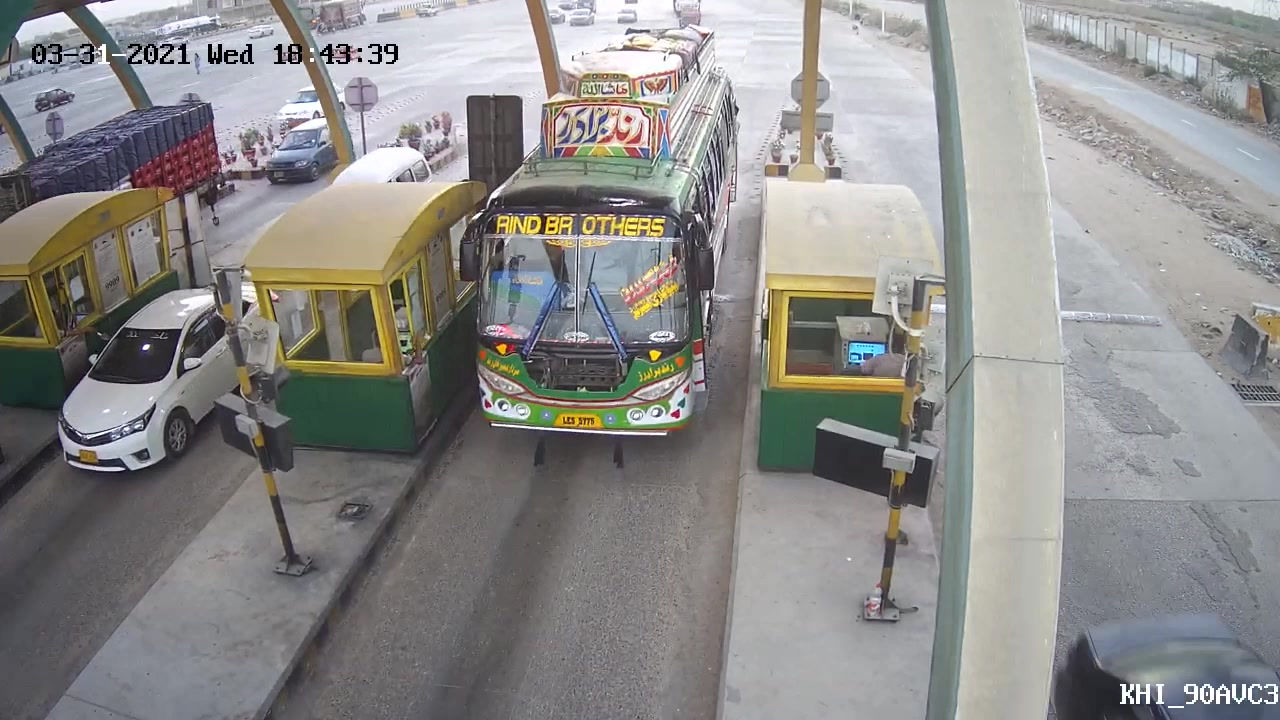F3: (456, 20, 744, 452)
